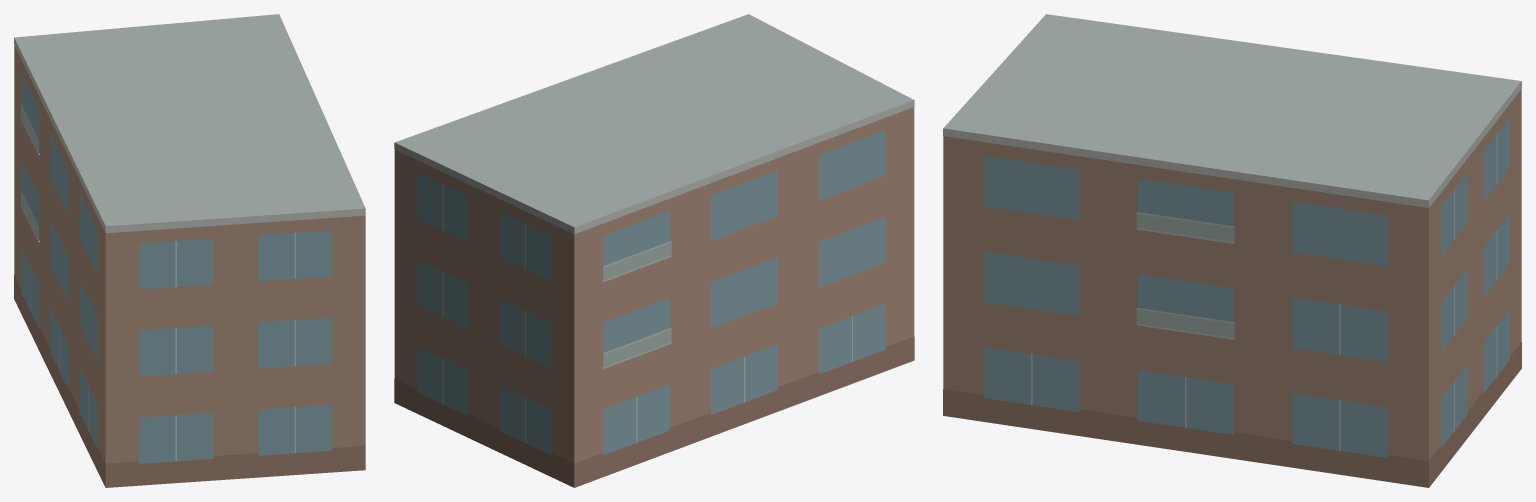
File: survey-upis-33045173.glb
The picture shows the model from 3 angles, left to right: view 1: azimuth 30°, elevation 25°; view 2: azimuth 150°, elevation 25°; view 3: azimuth 270°, elevation 25°; orthographic projection. The views are drawn at different scales.
Parts seen in each view (by area): view 1: survey-upis-33045173.tmp; view 2: survey-upis-33045173.tmp; view 3: survey-upis-33045173.tmp.
Boxes of the visible parts, left/top/right/bottom form: survey-upis-33045173.tmp: left=14, top=14, right=365, bottom=487; survey-upis-33045173.tmp: left=394, top=14, right=914, bottom=487; survey-upis-33045173.tmp: left=943, top=14, right=1521, bottom=487.
Size of the model in its own units: 12.74 by 9.15 by 16.71.
